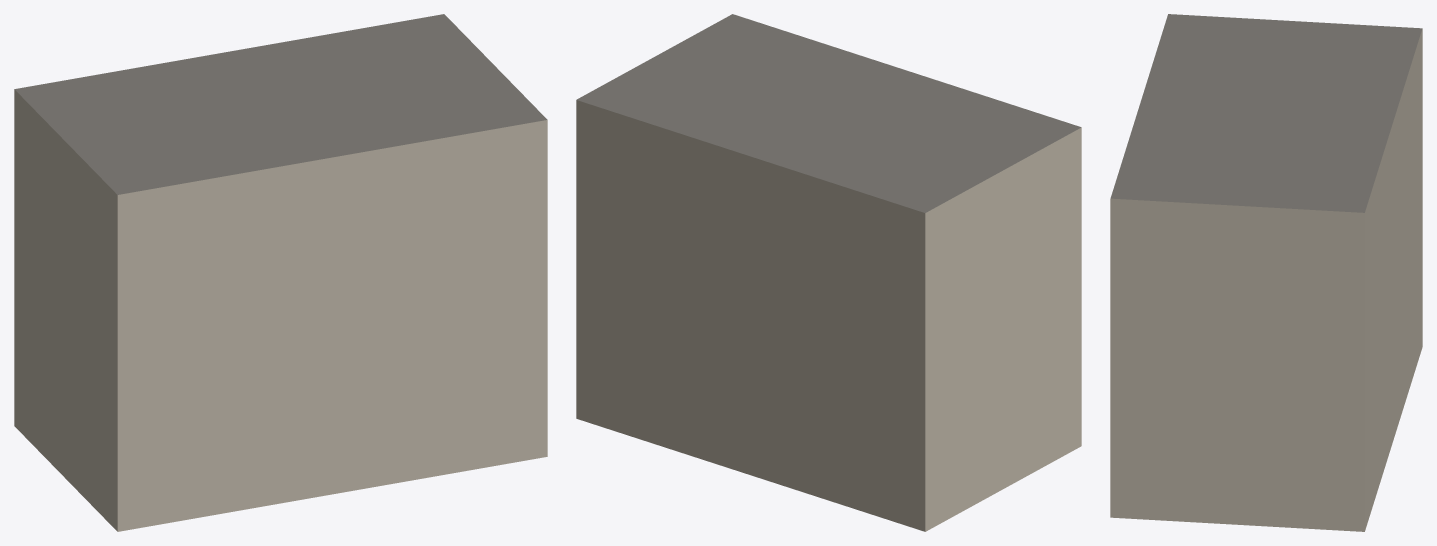
3 renders of one model, left to right at view 1: azimuth 30°, elevation 25°; view 2: azimuth 150°, elevation 25°; view 3: azimuth 270°, elevation 25°, orthographic. The views are drawn at different scales.
Visible parts, largest first — view 1: HP-w1318376924; view 2: HP-w1318376924; view 3: HP-w1318376924.
Part boxes in pixels (box(x1,y1,x2,y2)): HP-w1318376924: box(14, 14, 547, 531); HP-w1318376924: box(576, 14, 1081, 531); HP-w1318376924: box(1110, 14, 1422, 531).
Size of the model in its own units: 24.07 by 18 by 15.95.
